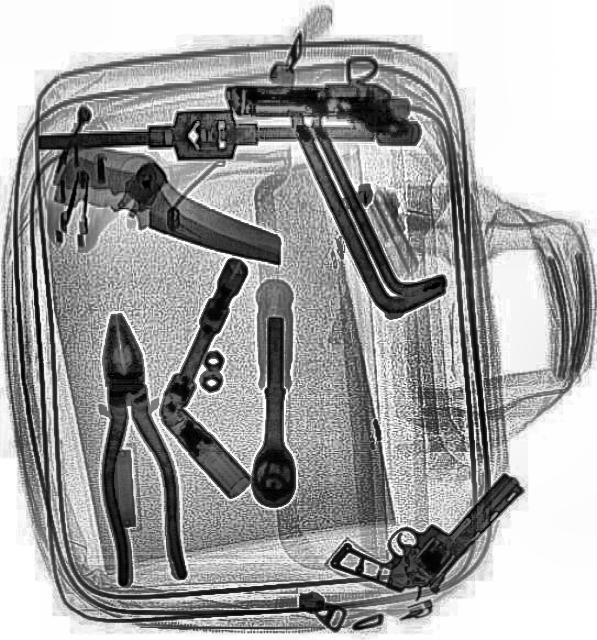Gun: (324, 427, 526, 626), (224, 80, 421, 148)
Pliers: (80, 304, 188, 586)
